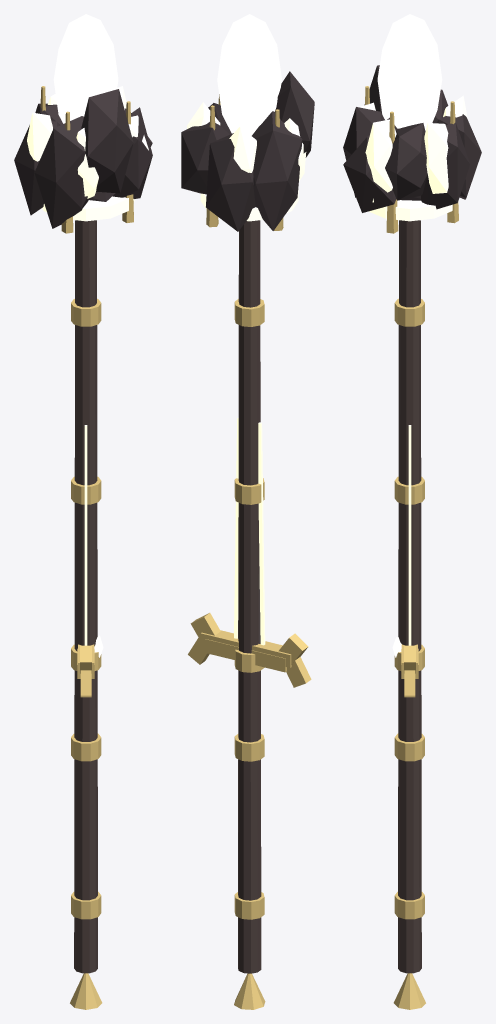
Rendered from weapons.glb.
The picture shows the model from 3 angles, left to right: view 1: azimuth 90°, elevation 25°; view 2: azimuth 150°, elevation 25°; view 3: azimuth 270°, elevation 25°; orthographic projection.
Visible parts, largest first — view 1: Staff_Zahara, Sword_Kael, Sword_Lyra; view 2: Staff_Zahara, Sword_Kael, Sword_Lyra; view 3: Staff_Zahara, Sword_Kael, Sword_Lyra.
Boxes of the visible parts, x1,y1,x2,y2 form: Staff_Zahara: [14, 14, 152, 1009]; Sword_Kael: [77, 425, 94, 678]; Sword_Lyra: [78, 635, 103, 697]; Staff_Zahara: [181, 14, 314, 1009]; Sword_Kael: [190, 417, 308, 672]; Sword_Lyra: [188, 630, 311, 687]; Staff_Zahara: [343, 14, 481, 1009]; Sword_Kael: [401, 425, 418, 678]; Sword_Lyra: [392, 637, 417, 697].
Size of the model in its own units: 0.2515 by 2 by 0.2548.
